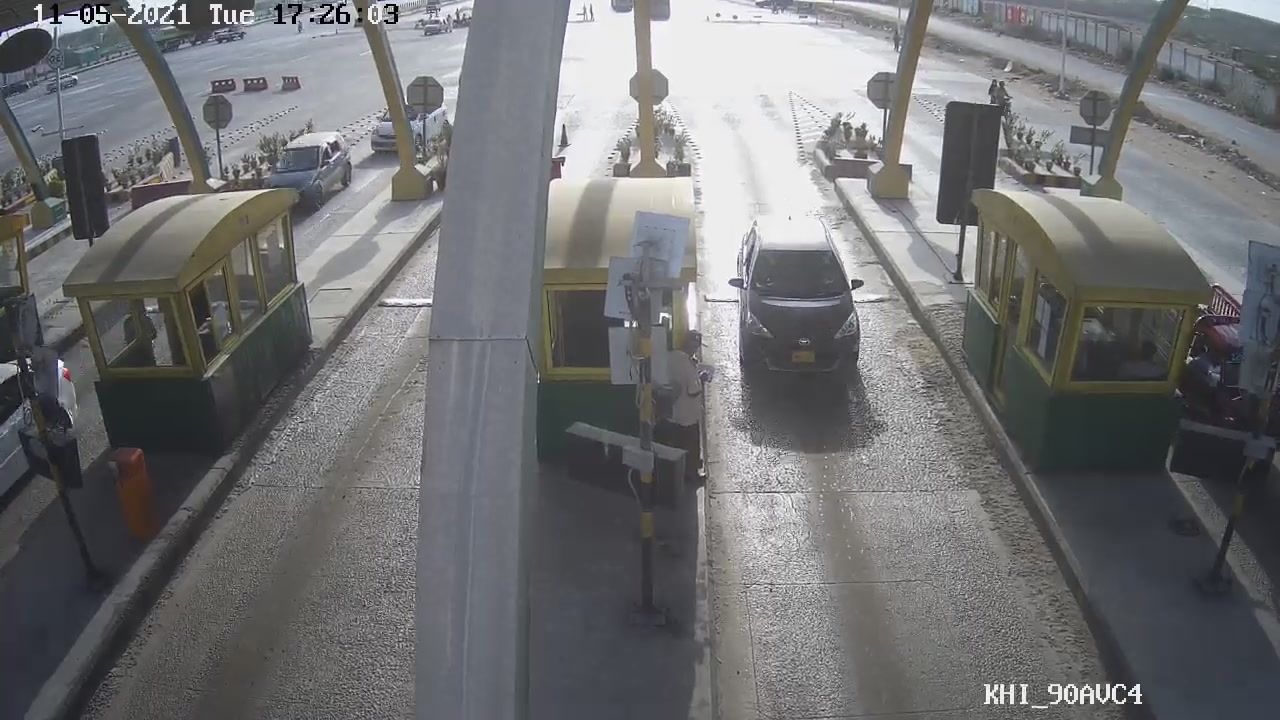F1: (725, 210, 882, 386)
